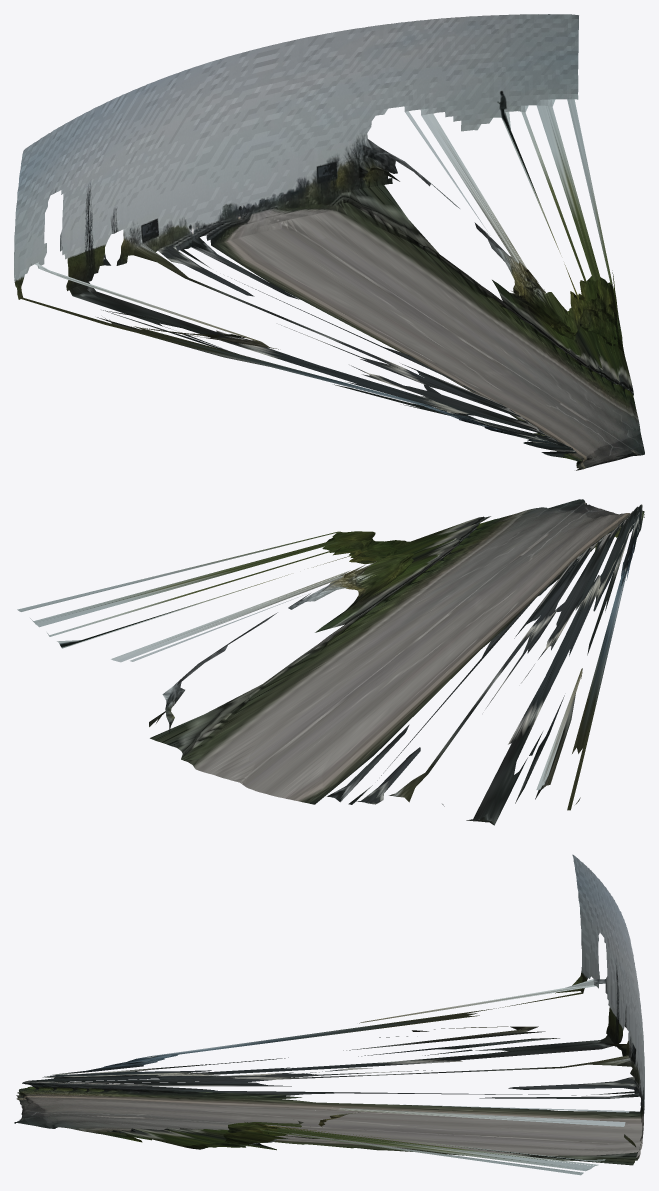
The picture shows the model from 3 angles, top to bottom: view 1: azimuth 30°, elevation 25°; view 2: azimuth 150°, elevation 25°; view 3: azimuth 270°, elevation 25°; orthographic projection. The views are drawn at different scales.
Visible parts, largest first — view 1: defaultobject; view 2: defaultobject; view 3: defaultobject.
Part boxes in pixels (box(x1,y1,x2,y2)): defaultobject: box(14, 14, 644, 470); defaultobject: box(17, 499, 644, 825); defaultobject: box(14, 854, 644, 1175).
Size of the model in its own units: 41.11 by 13.38 by 44.65.
Materials: 1 (1 with a texture image).
